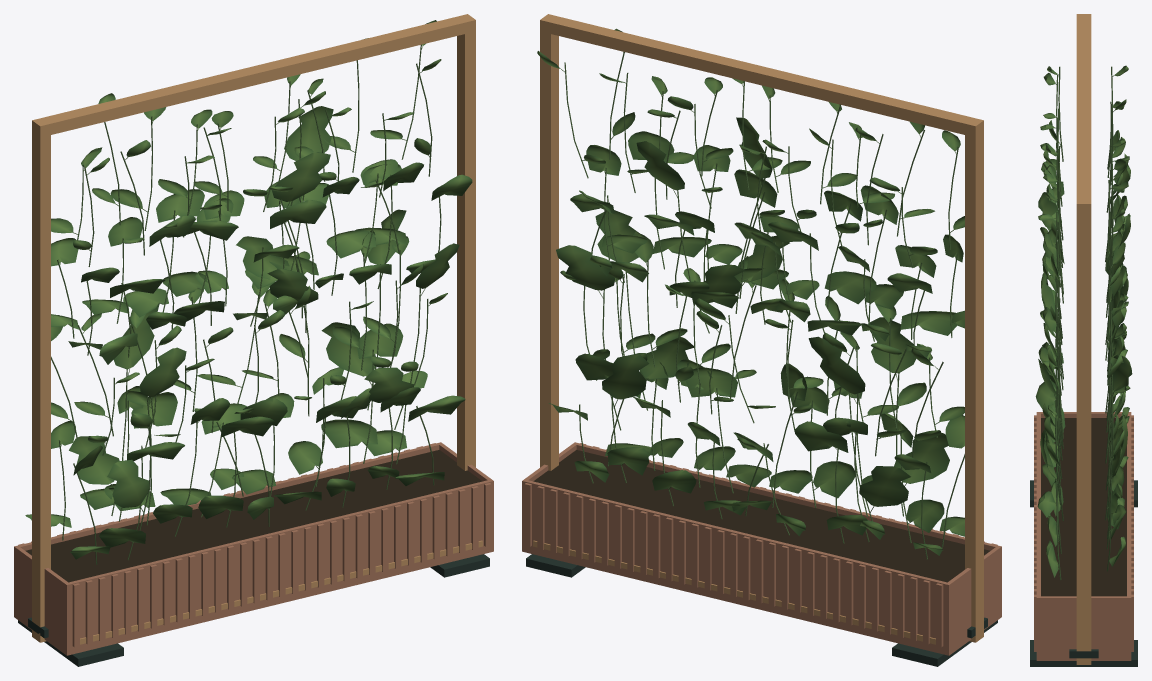
Rendered from botanicalDivider-4.glb.
3 renders of one model, left to right at view 1: azimuth 30°, elevation 25°; view 2: azimuth 150°, elevation 25°; view 3: azimuth 270°, elevation 25°, orthographic. The views are drawn at different scales.
Visible parts, largest first — view 1: Botanical_living_foliage, Botanical_terracotta, Botanical_frame_finish, Botanical_recessed_soil, Botanical_connected_stems, Botanical_powdercoat; view 2: Botanical_living_foliage, Botanical_terracotta, Botanical_frame_finish, Botanical_recessed_soil, Botanical_connected_stems, Botanical_powdercoat; view 3: Botanical_living_foliage, Botanical_frame_finish, Botanical_recessed_soil, Botanical_terracotta, Botanical_connected_stems, Botanical_powdercoat.
Boxes of the visible parts, x1,y1,x2,y2 form: Botanical_living_foliage: (25, 20, 472, 559); Botanical_terracotta: (14, 442, 493, 655); Botanical_frame_finish: (32, 14, 482, 644); Botanical_recessed_soil: (25, 450, 482, 582); Botanical_connected_stems: (51, 44, 441, 564); Botanical_powdercoat: (18, 554, 489, 666); Botanical_living_foliage: (537, 28, 964, 555); Botanical_terracotta: (522, 442, 1001, 655); Botanical_frame_finish: (533, 14, 983, 644); Botanical_recessed_soil: (533, 450, 990, 582); Botanical_connected_stems: (561, 52, 964, 559); Botanical_powdercoat: (526, 554, 997, 666); Botanical_living_foliage: (1035, 65, 1132, 577); Botanical_frame_finish: (1076, 14, 1091, 664); Botanical_recessed_soil: (1041, 418, 1126, 596); Botanical_terracotta: (1034, 412, 1133, 660); Botanical_connected_stems: (1054, 66, 1114, 580); Botanical_powdercoat: (1030, 480, 1137, 666).
Bounding box in the file's own units: 2 × 2.3 × 0.48.
